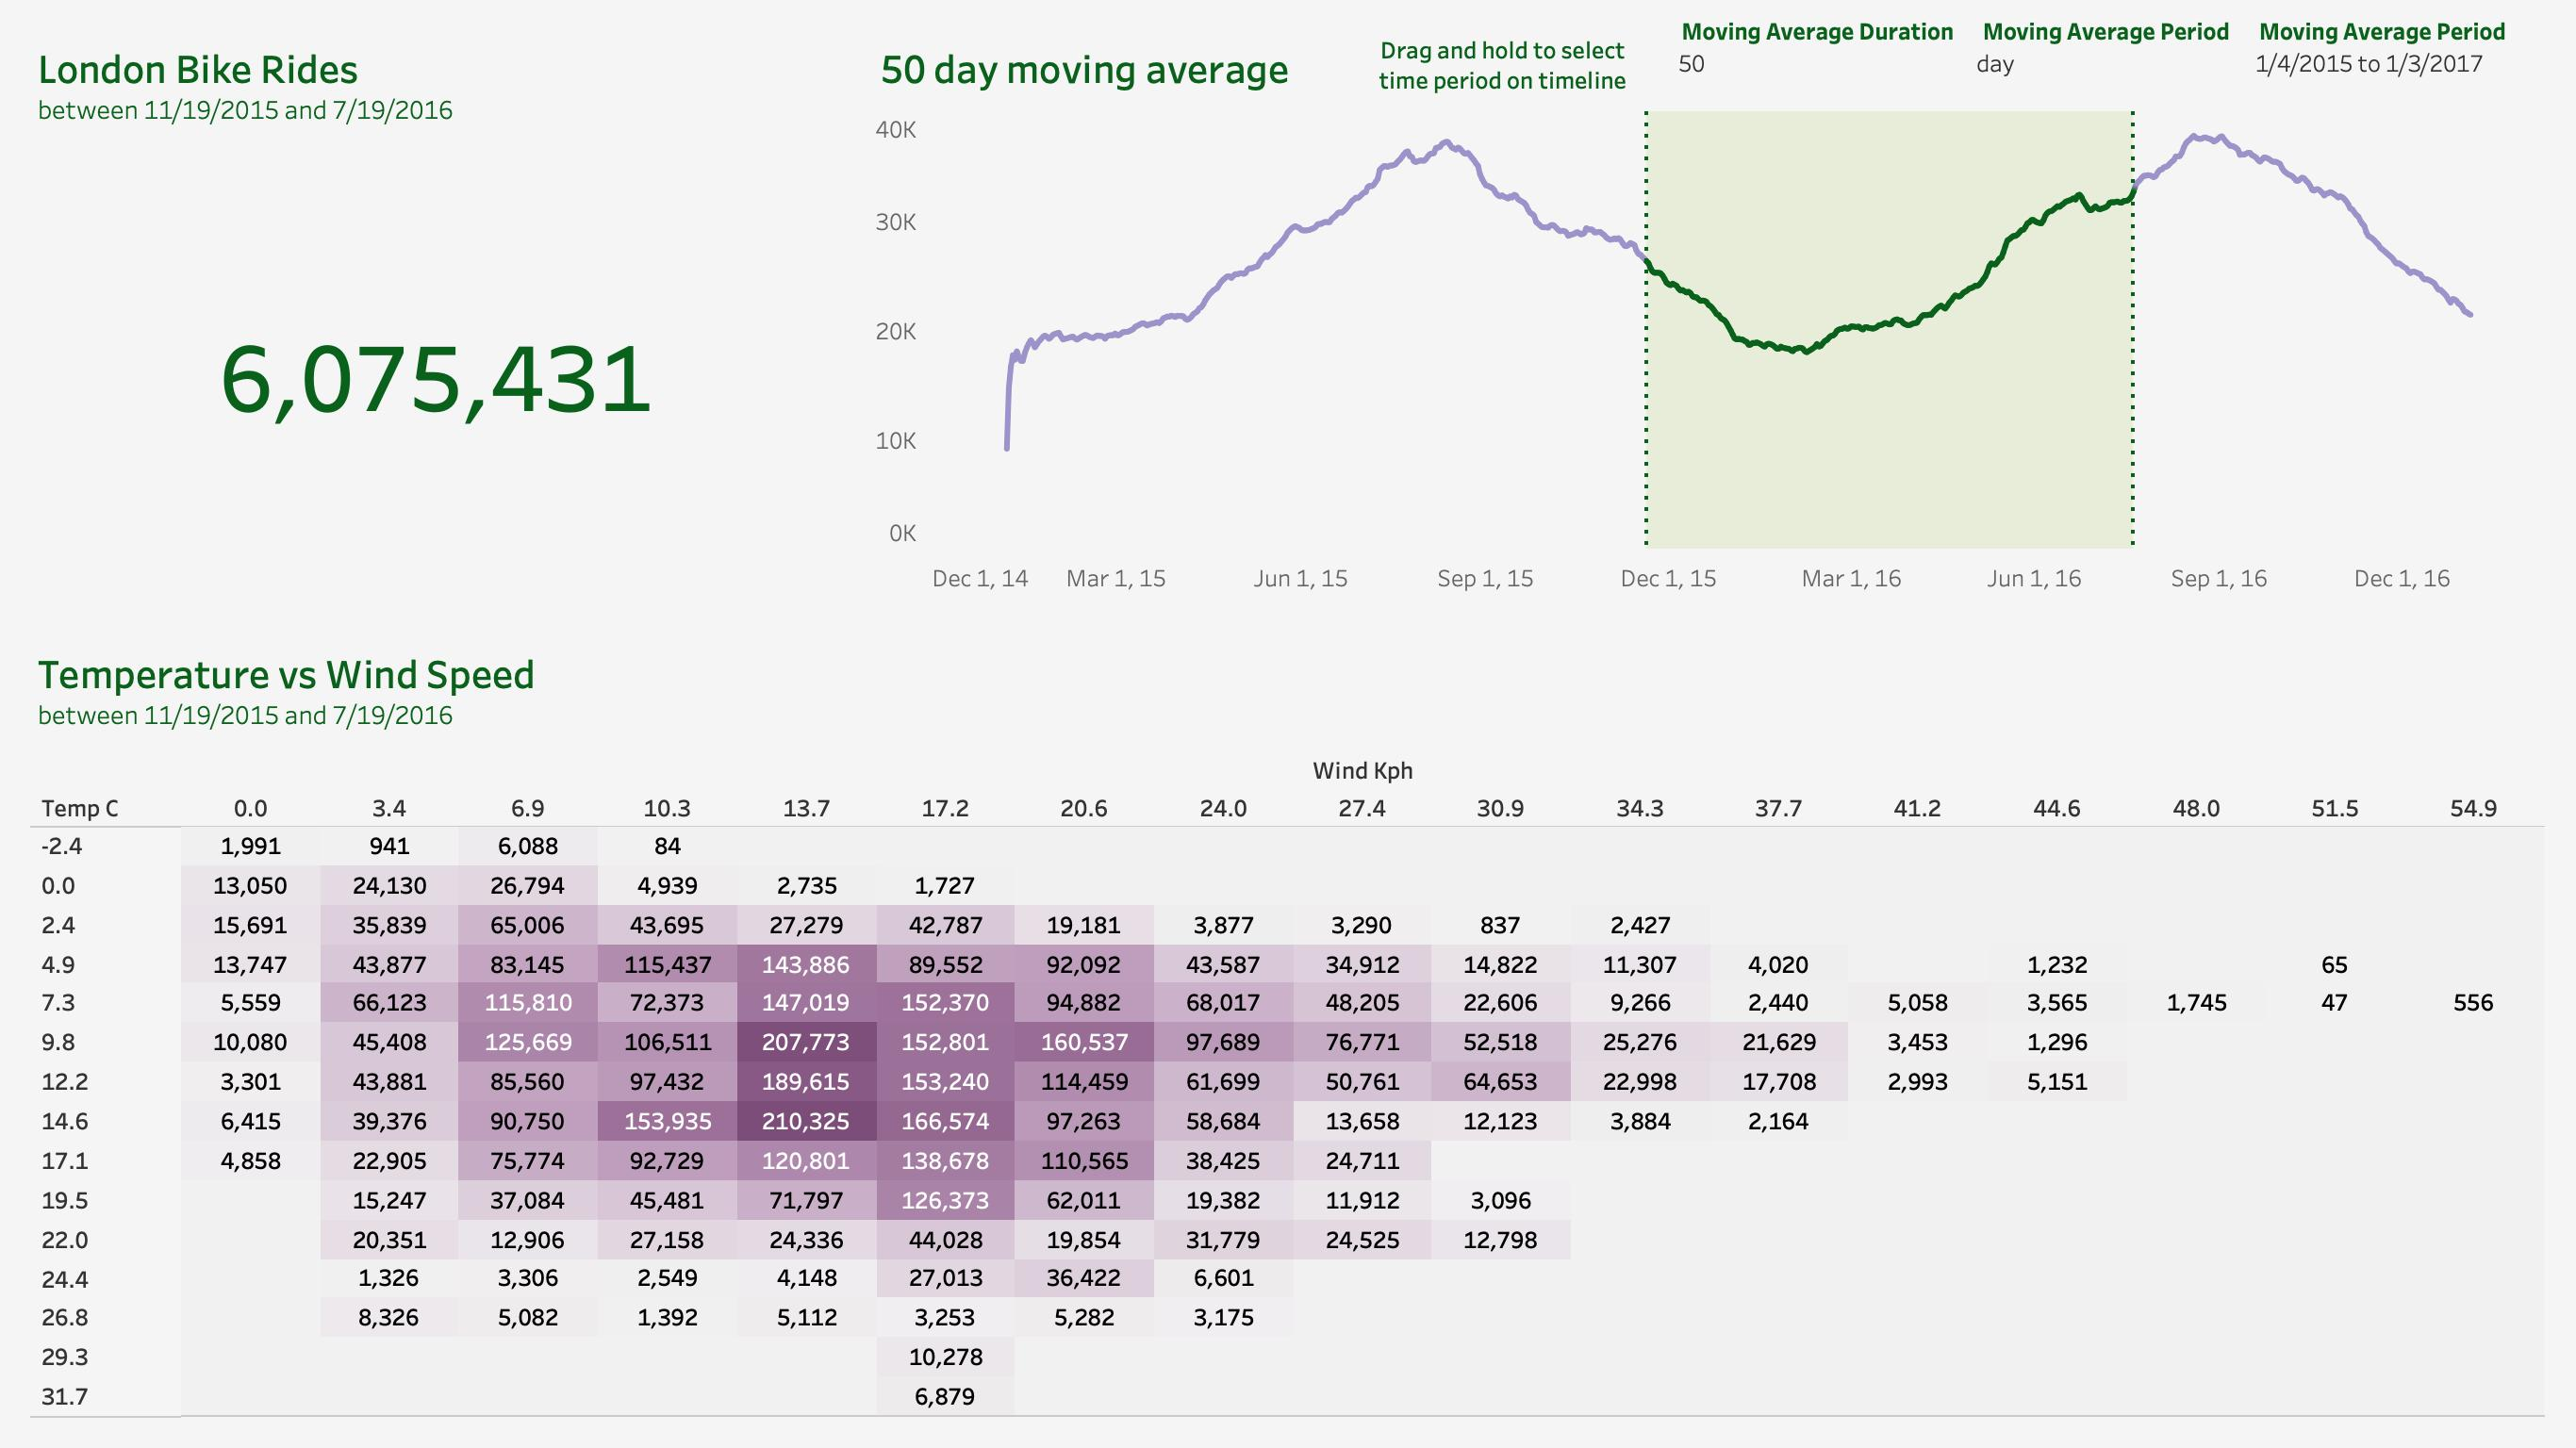

This screenshot's page, from the dashboard's own definition file:
{"tool":"tableau","page":{"name":"Dashboard 1","canvas":[1366,768],"ordinal":0},"visuals":[{"type":"parameter","param":"[Parameters].[Parameter 2]","box":[888,7,152,44]},{"type":"parameter","param":"[Parameters].[Parameter 1]","box":[1046,7,142,44]},{"type":"filter","title":"MovingAverage","param":"[federated.0sqidj618l192810s2t220qvc0yt].[none:Calculation_693132136348532738:qk","box":[1193,7,141,55]},{"type":"worksheet","title":"TotalRides","mark":"Automatic","box":[8,8,447,321.3]},{"type":"worksheet","title":"MovingAverage","mark":"Automatic","rows":["Calculation1"],"cols":["Calculation_693132136348532738"],"box":[455,8,903,321.3]},{"type":"text","box":[716,19,162,32]},{"type":"worksheet","title":"Heatmap","mark":"Square","rows":["temp real C (bin)"],"cols":["Wind Speed Kph (bin)"],"box":[8,329.3,1350,430.7]}]}

Visuals, with their boxes in screenshot pixels (x1, y1, x2, y2), scaled from the page's 1366x768 canvas onto the 2576x1448 screenshot:
parameter: 1675 13 1961 96
parameter: 1973 13 2240 96
"MovingAverage" filter: 2250 13 2516 117
"TotalRides" worksheet: 15 15 858 621
"MovingAverage" worksheet: 858 15 2561 621
text: 1350 36 1656 96
"Heatmap" worksheet (Square marks): 15 621 2561 1433
